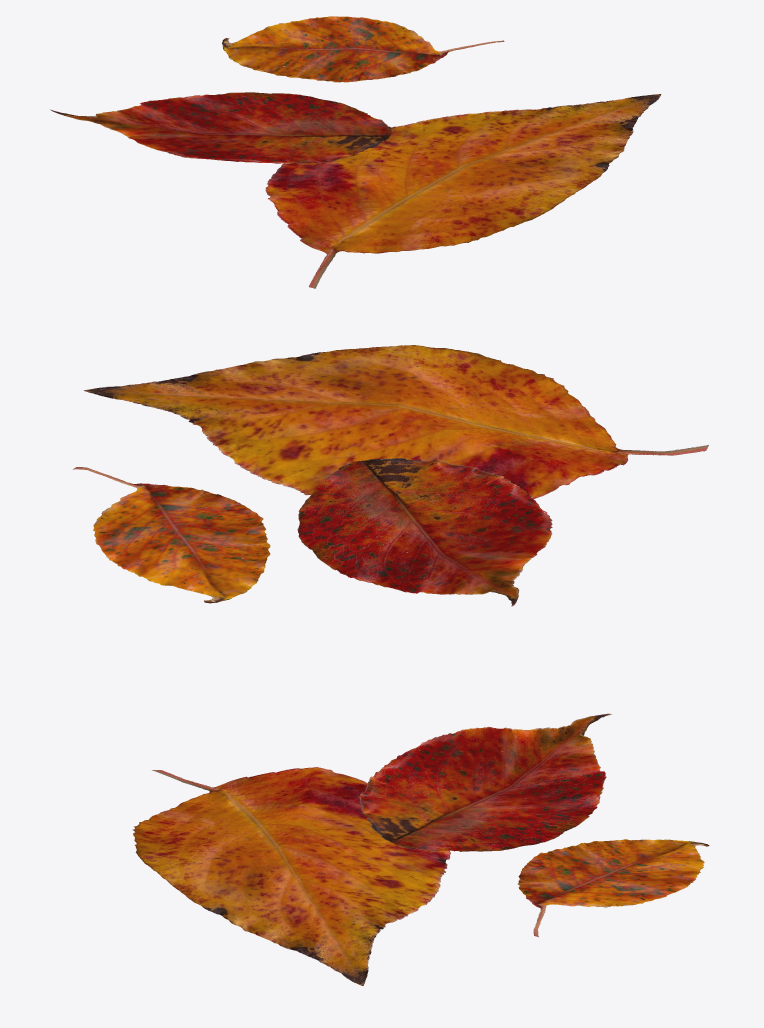
Rendered from test lisci3.fbx.
3 views of the same model, one above another, from view 1: azimuth 30°, elevation 25°; view 2: azimuth 150°, elevation 25°; view 3: azimuth 270°, elevation 25° (orthographic). The views are drawn at different scales.
Parts seen in each view (by area): view 1: Plane.019; view 2: Plane.019; view 3: Plane.019.
Part boxes in pixels (box(x1,y1,x2,y2)): Plane.019: box(50, 16, 661, 288); Plane.019: box(73, 345, 708, 606); Plane.019: box(132, 713, 709, 985).
Bounding box in the file's own units: 105 × 6.14 × 103.
Materials: 3 (3 with a texture image).
